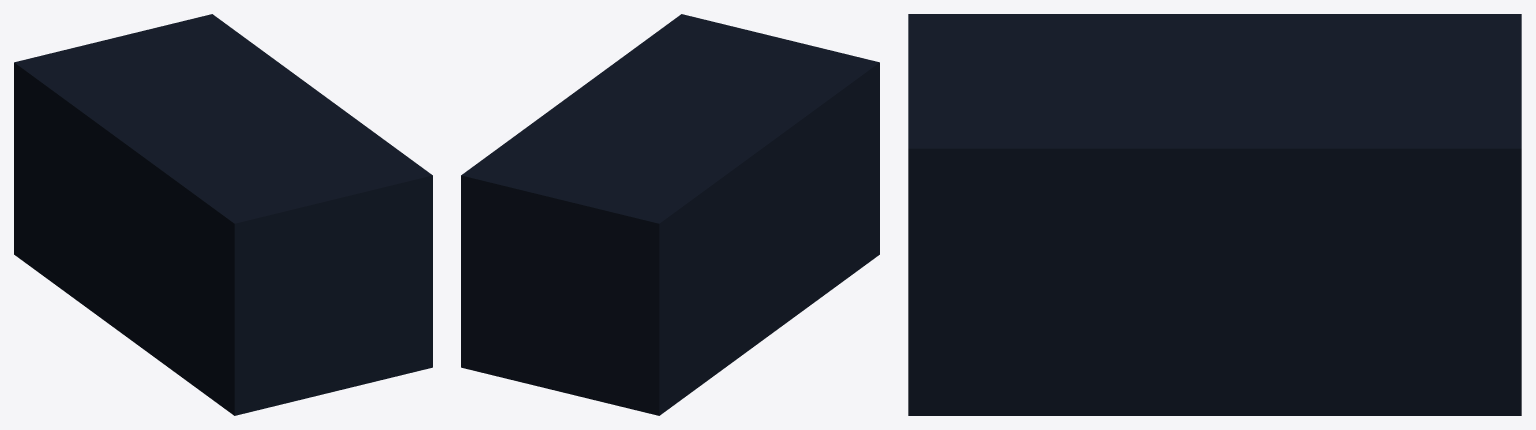
The model's file is ExpendeX_Vending_Machine_Oficial.obj.
The picture shows the model from 3 angles, left to right: view 1: azimuth 30°, elevation 25°; view 2: azimuth 150°, elevation 25°; view 3: azimuth 270°, elevation 25°; orthographic projection. The views are drawn at different scales.
Bounding box in the file's own units: 950 × 885 × 1830.
